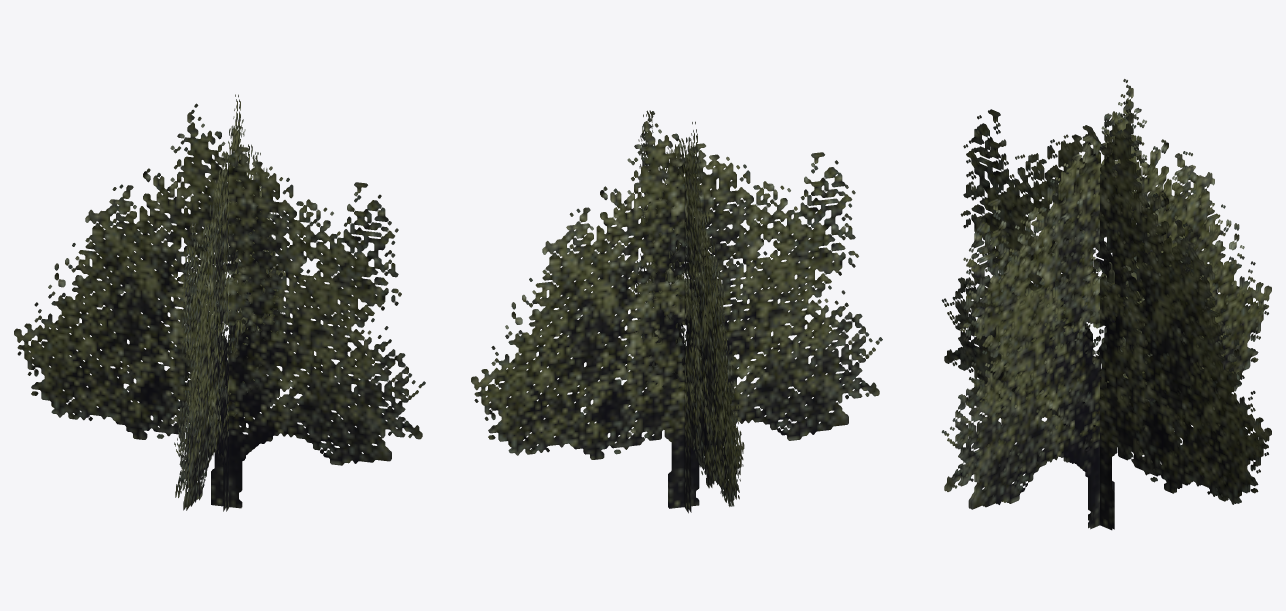
Rendered from tree115.fbx.
3 renders of one model, left to right at view 1: azimuth 30°, elevation 25°; view 2: azimuth 150°, elevation 25°; view 3: azimuth 270°, elevation 25°, orthographic. The views are drawn at different scales.
Parts seen in each view (by area): view 1: tree115; view 2: tree115; view 3: tree115.
Part boxes in pixels (x1,y1,x2,y2): tree115: [14, 94, 425, 511]; tree115: [471, 110, 882, 513]; tree115: [941, 79, 1271, 530].
Bounding box in the file's own units: 278 × 400 × 278.
Materials: 1 (1 with a texture image).
